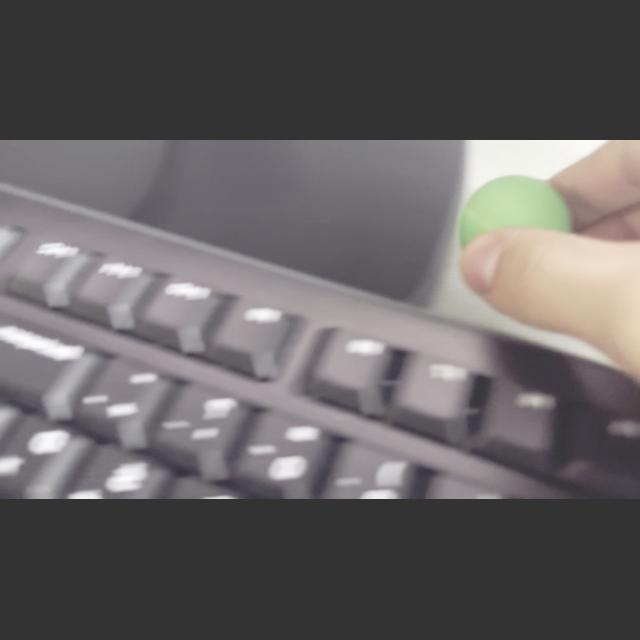objects: (451, 170, 581, 254)
